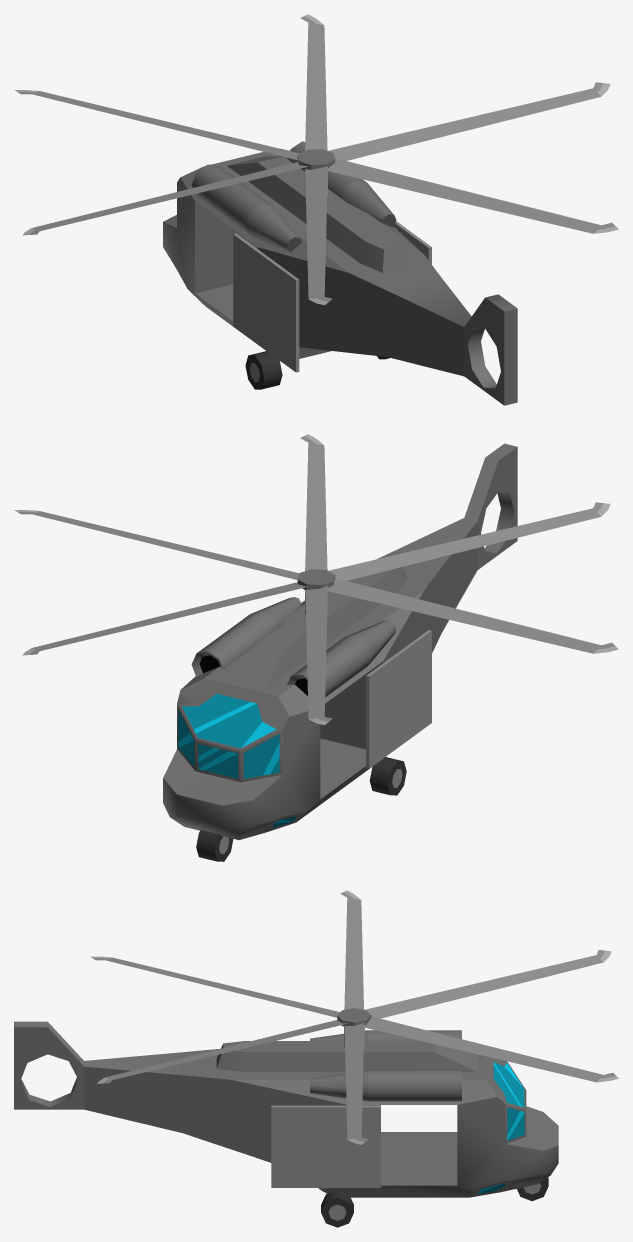
The model's file is Helicopter.fbx.
3 renders of one model, top to bottom at view 1: azimuth 30°, elevation 25°; view 2: azimuth 150°, elevation 25°; view 3: azimuth 270°, elevation 25°, orthographic. The views are drawn at different scales.
Visible parts, largest first — view 1: helicopter, helicopterSpin; view 2: helicopter, helicopterSpin; view 3: helicopter, helicopterSpin.
Part boxes in pixels (box(x1,y1,x2,y2)): helicopter: box(163, 141, 517, 405); helicopterSpin: box(14, 14, 618, 305); helicopter: box(163, 443, 517, 861); helicopterSpin: box(14, 434, 618, 725); helicopter: box(14, 1021, 558, 1227); helicopterSpin: box(90, 890, 618, 1144).
Bounding box in the file's own units: 953 × 318 × 957.
